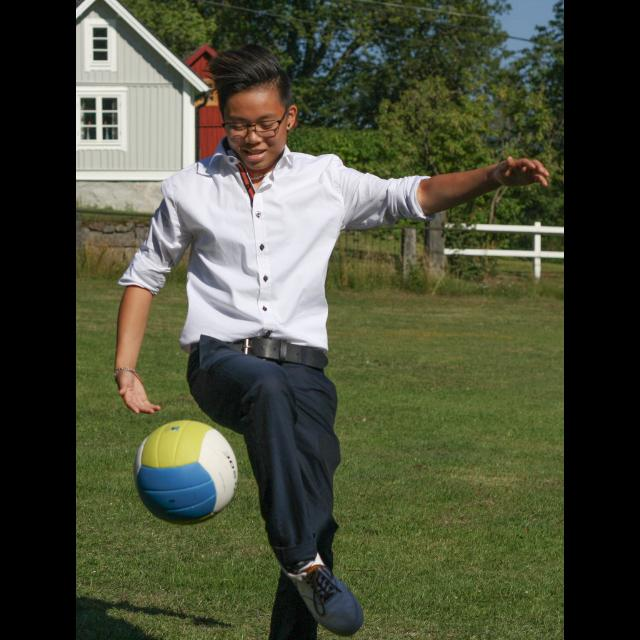Football: (132, 417, 238, 528)
